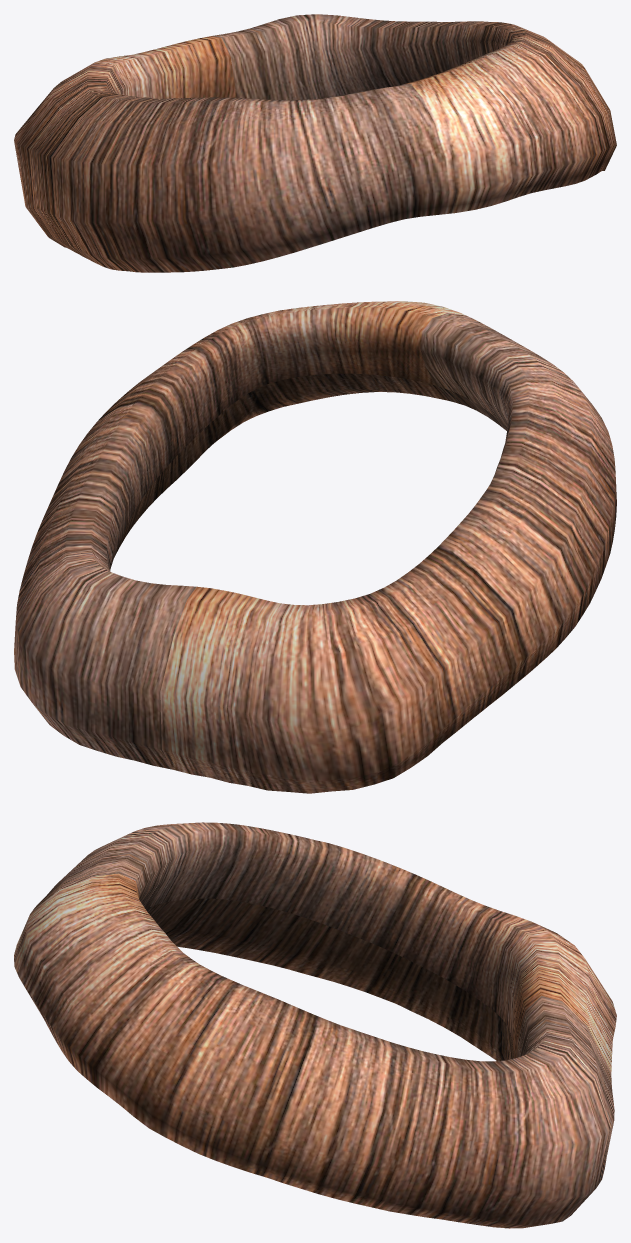
File: SM_MonkHair_00.fbx
The picture shows the model from 3 angles, top to bottom: view 1: azimuth 30°, elevation 25°; view 2: azimuth 150°, elevation 25°; view 3: azimuth 270°, elevation 25°; orthographic projection. The views are drawn at different scales.
Visible parts, largest first — view 1: SM_MonkHair_00; view 2: SM_MonkHair_00; view 3: SM_MonkHair_00.
Part boxes in pixels (x1=…): SM_MonkHair_00: x1=14, y1=14, x2=616, y2=272; SM_MonkHair_00: x1=14, y1=301, x2=616, y2=793; SM_MonkHair_00: x1=14, y1=822, x2=616, y2=1228.
Bounding box in the file's own units: 34.29 × 19.27 × 36.55.
